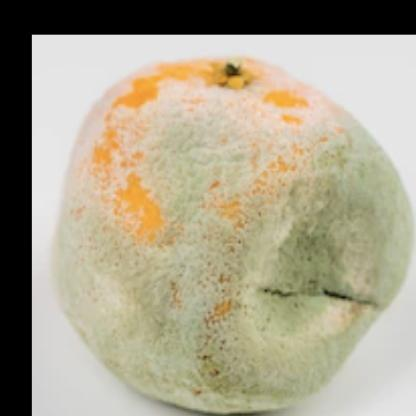rotten: (50, 63, 416, 416)
